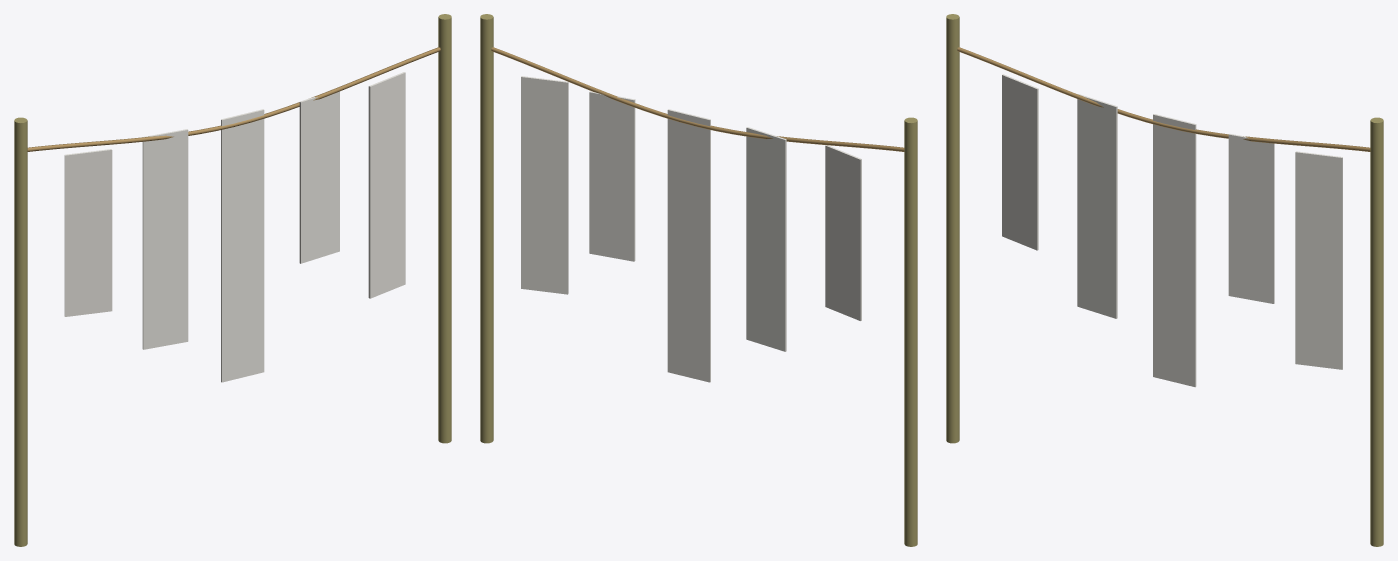
File: white-cloth-line.glb
The picture shows the model from 3 angles, left to right: view 1: azimuth 30°, elevation 25°; view 2: azimuth 150°, elevation 25°; view 3: azimuth 330°, elevation 25°; orthographic projection.
Size of the model in its own units: 2.26 by 2.1 by 0.062.
